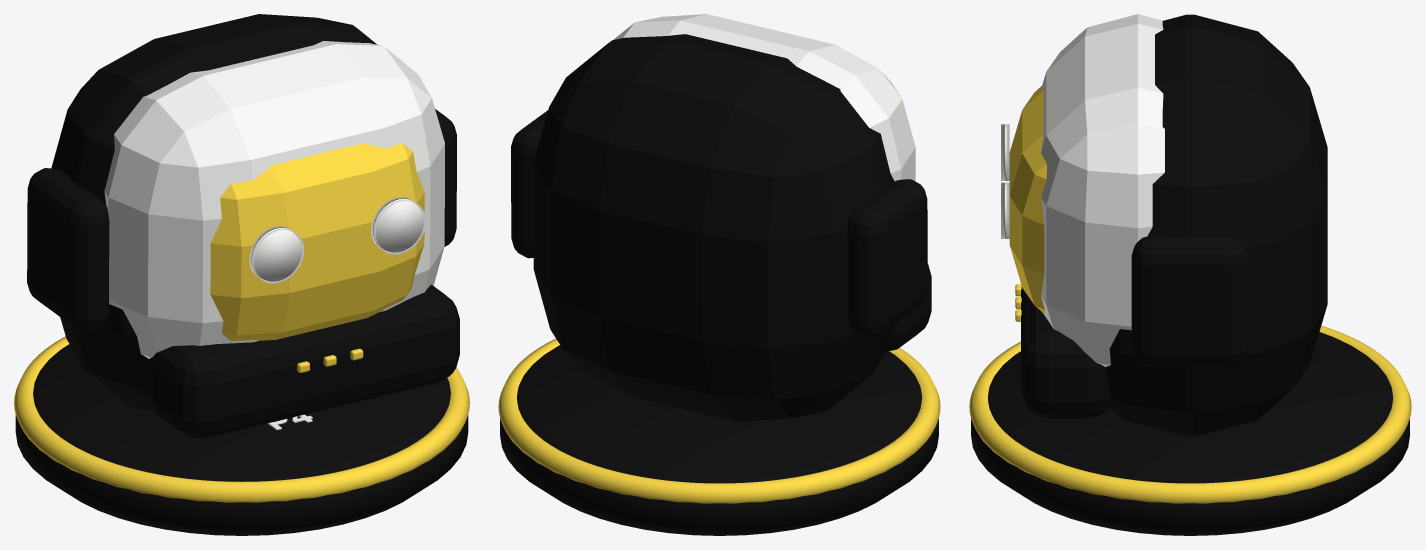
The model's file is player_gold.glb.
3 views of the same model, side by side, from view 1: azimuth 30°, elevation 25°; view 2: azimuth 150°, elevation 25°; view 3: azimuth 270°, elevation 25° (orthographic). The views are drawn at different scales.
Visible parts, largest first — view 1: MBR_ASSET_player_gold; view 2: MBR_ASSET_player_gold; view 3: MBR_ASSET_player_gold.
Part boxes in pixels (bbox=[...]): MBR_ASSET_player_gold: bbox=[14, 14, 469, 535]; MBR_ASSET_player_gold: bbox=[498, 14, 940, 535]; MBR_ASSET_player_gold: bbox=[969, 14, 1411, 535].
Size of the model in its own units: 0.564 by 0.5654 by 0.564.
